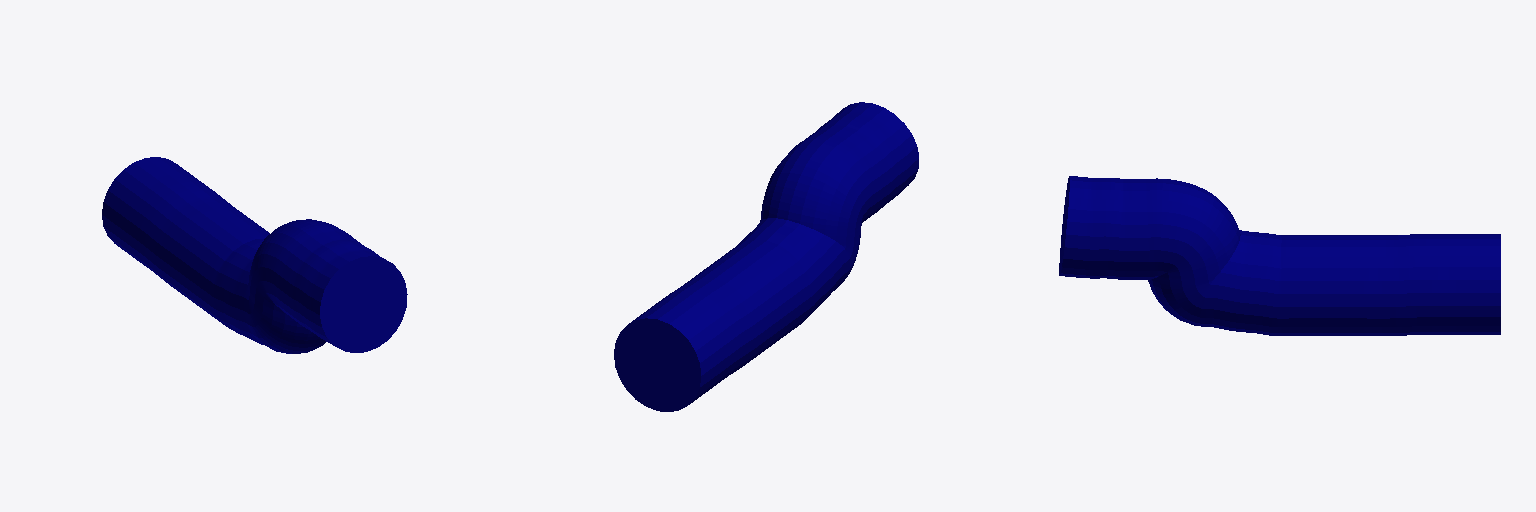
The picture shows the model from 3 angles: view 1: azimuth 30°, elevation 25°; view 2: azimuth 150°, elevation 25°; view 3: azimuth 270°, elevation 25°; orthographic projection.
Parts seen in each view (by area): view 1: Loft001; view 2: Loft001; view 3: Loft001.
Part boxes in pixels (bbox=[...]): Loft001: bbox=[102, 157, 407, 353]; Loft001: bbox=[614, 102, 918, 411]; Loft001: bbox=[1059, 176, 1500, 335].
Size of the model in its own units: 948 by 1565 by 4135.